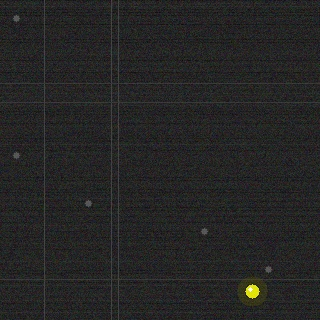yellow_warning: (243, 282, 261, 300)
